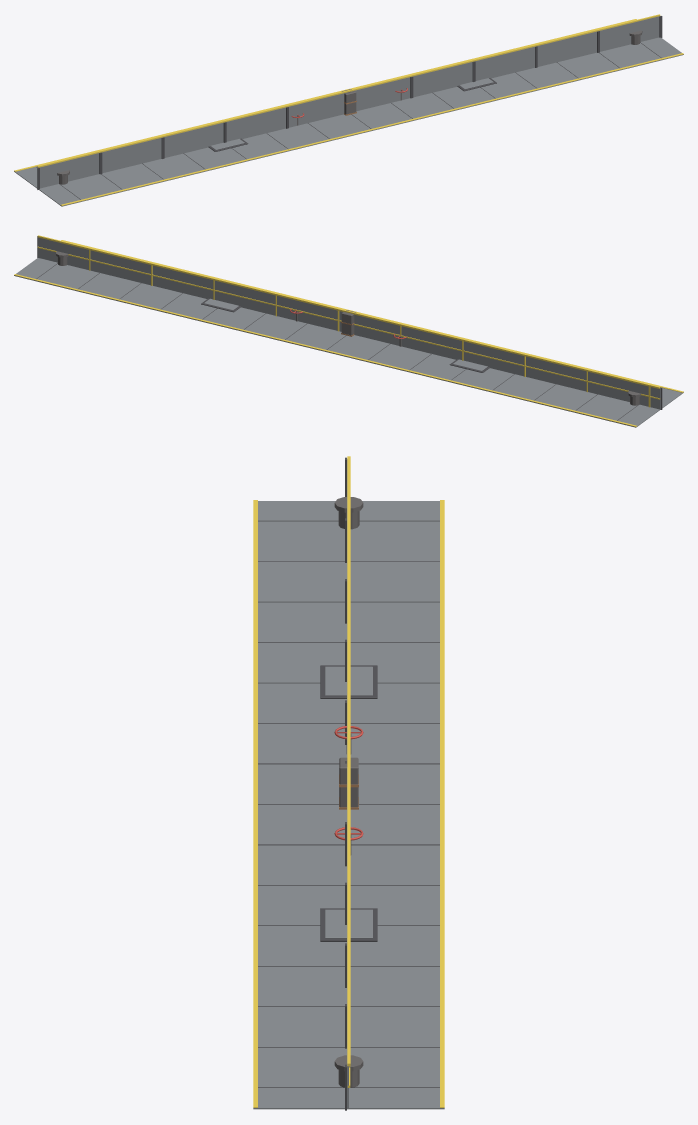
Rendered from caisson.glb.
3 renders of one model, top to bottom at view 1: azimuth 30°, elevation 25°; view 2: azimuth 150°, elevation 25°; view 3: azimuth 270°, elevation 25°, orthographic. The views are drawn at different scales.
Visible parts, largest first — view 1: cg_deck_mesh, cg_face_mesh, cg_rail_mesh, cg_pile_mesh; view 2: cg_deck_mesh, cg_face_mesh, cg_rail_mesh, cg_pile_mesh; view 3: cg_deck_mesh, cg_rail_mesh, cg_face_mesh.
Part boxes in pixels (box(x1,y1,x2,y2)): cg_deck_mesh: box(14, 19, 683, 206); cg_face_mesh: box(37, 16, 662, 189); cg_rail_mesh: box(37, 14, 660, 167); cg_pile_mesh: box(342, 89, 356, 115); cg_deck_mesh: box(14, 240, 683, 427); cg_face_mesh: box(37, 236, 662, 409); cg_rail_mesh: box(37, 235, 660, 407); cg_pile_mesh: box(341, 310, 355, 336); cg_deck_mesh: box(253, 497, 444, 1109); cg_rail_mesh: box(347, 456, 350, 1087); cg_face_mesh: box(345, 457, 348, 1110).
Bounding box in the file's own units: 30.12 × 1.05 × 4.
